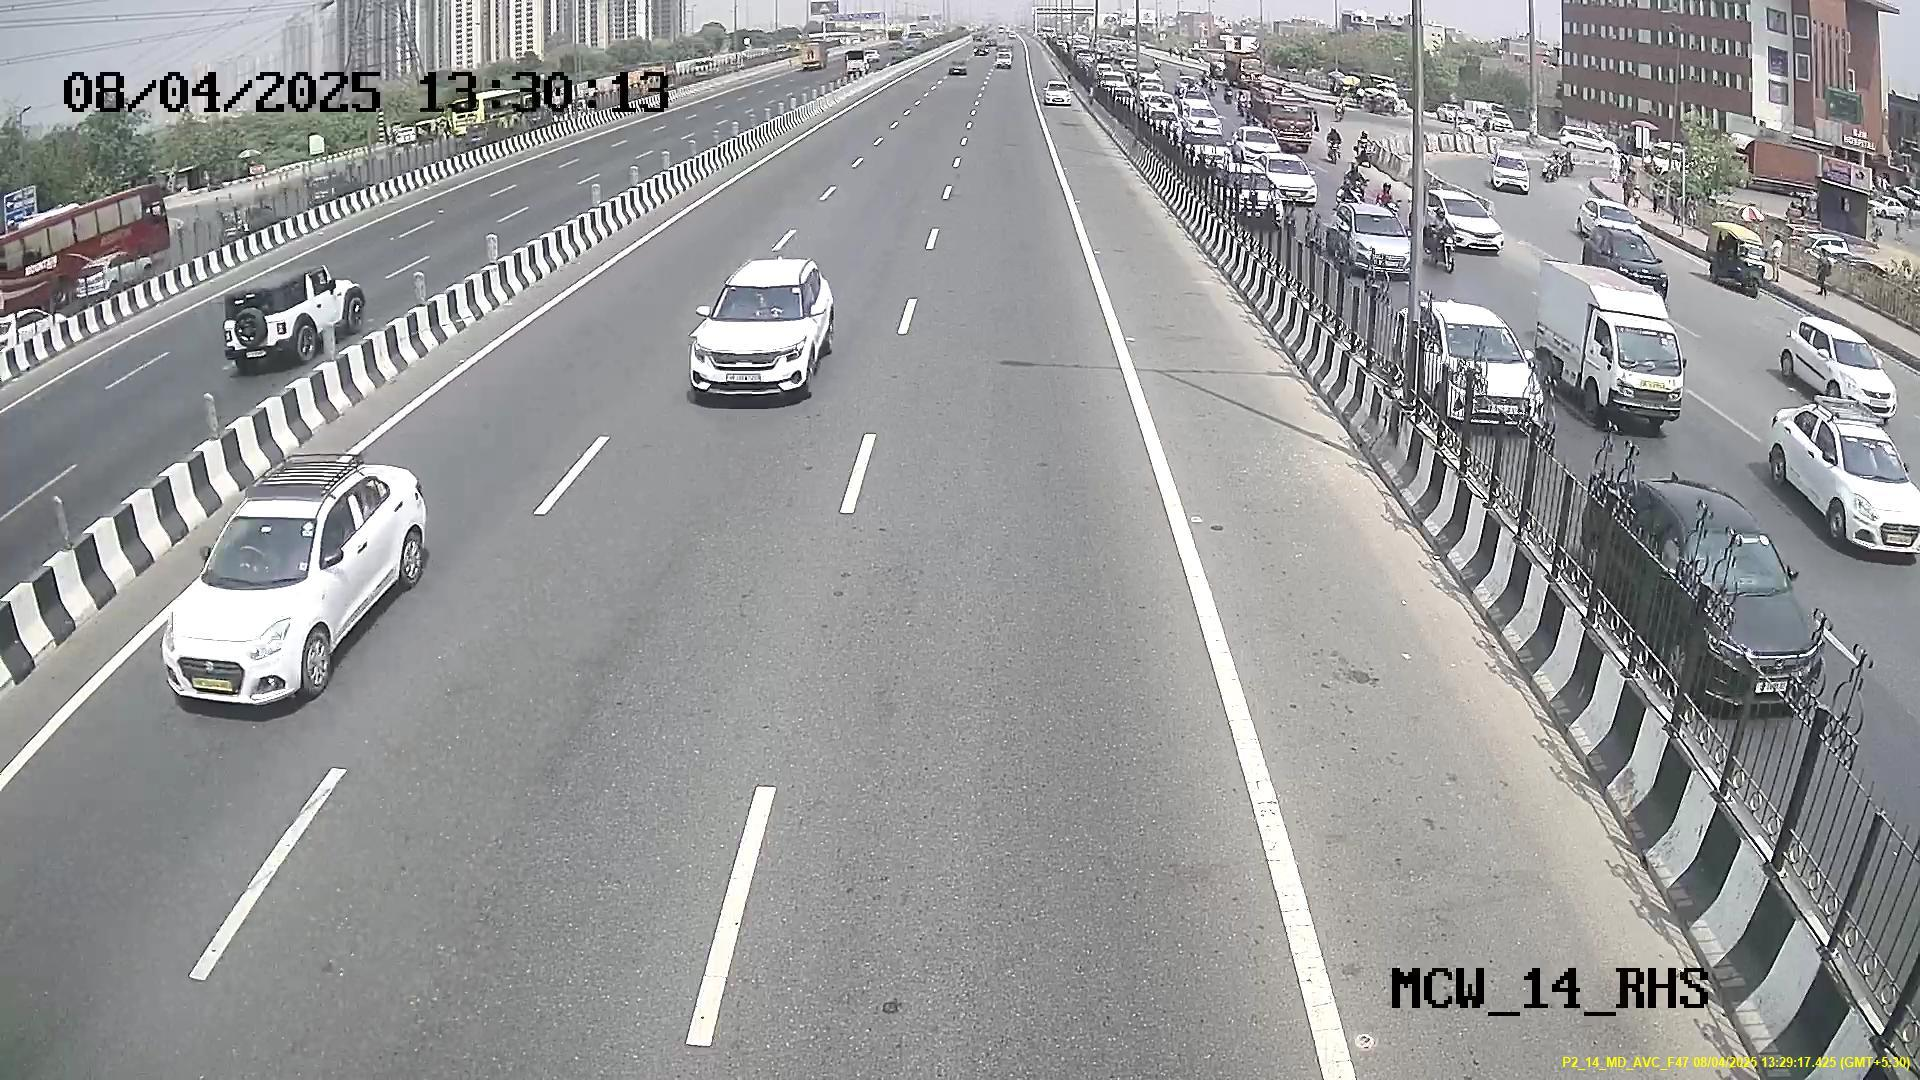car: (158, 475, 367, 709), (686, 273, 825, 401)
